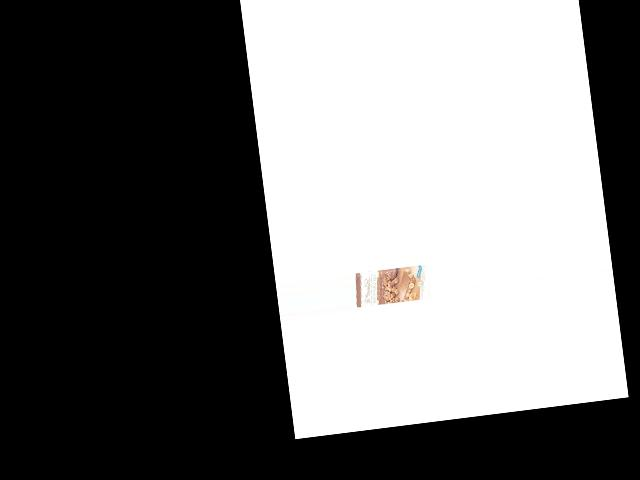chocolate: (354, 262, 427, 312)
